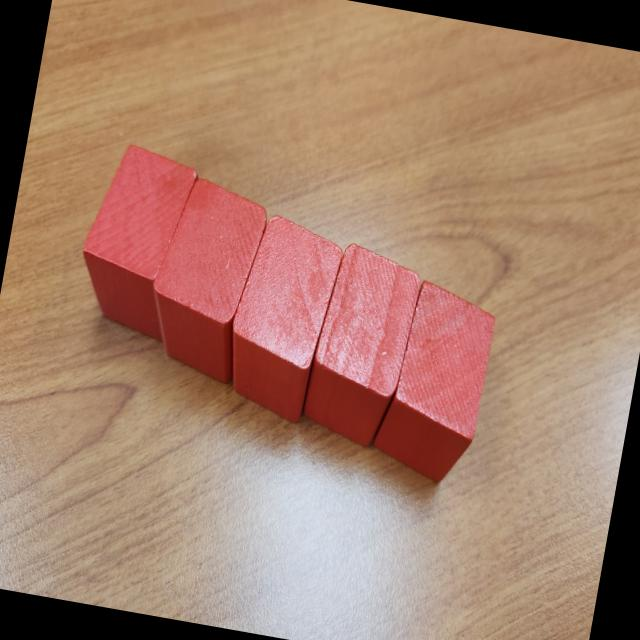red: (366, 276, 502, 492), (137, 172, 273, 387), (216, 210, 346, 427), (69, 138, 202, 344), (298, 240, 426, 452)
